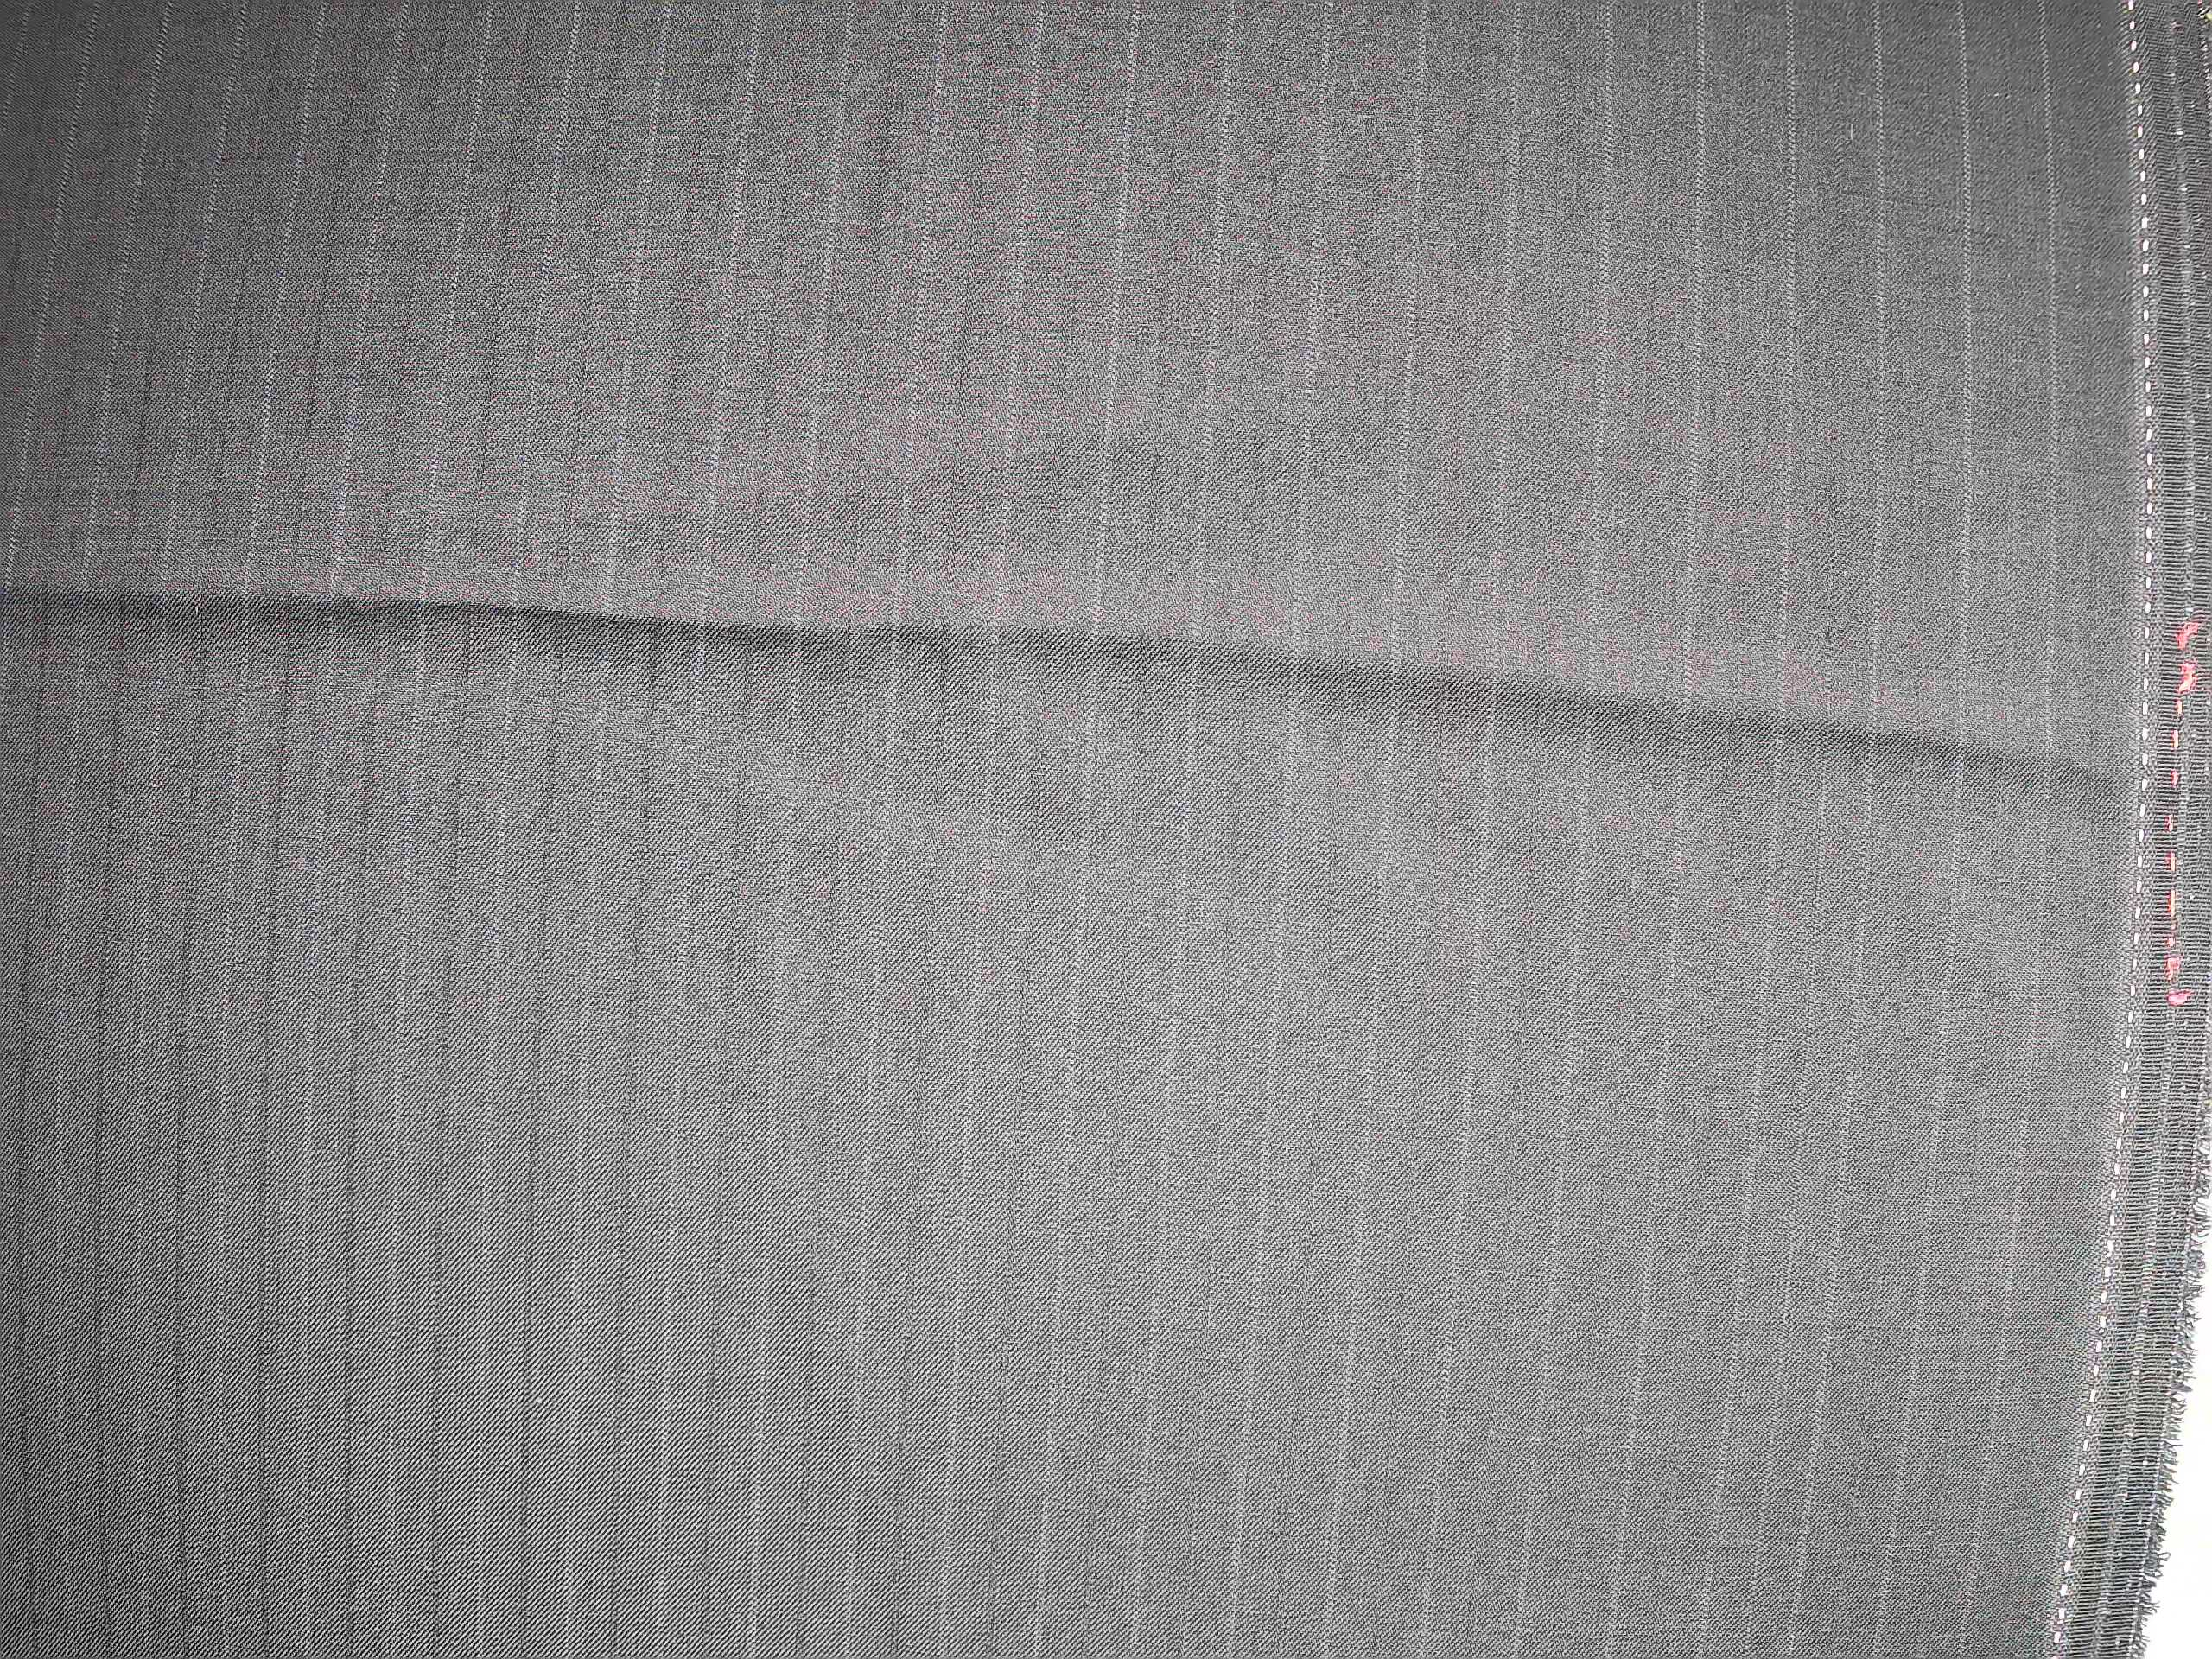lacking-warp: (887, 282, 979, 1495)
